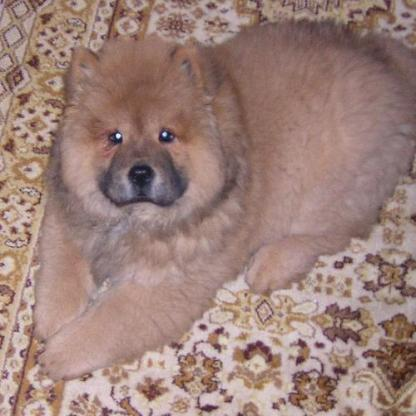chow: (32, 16, 414, 378)
